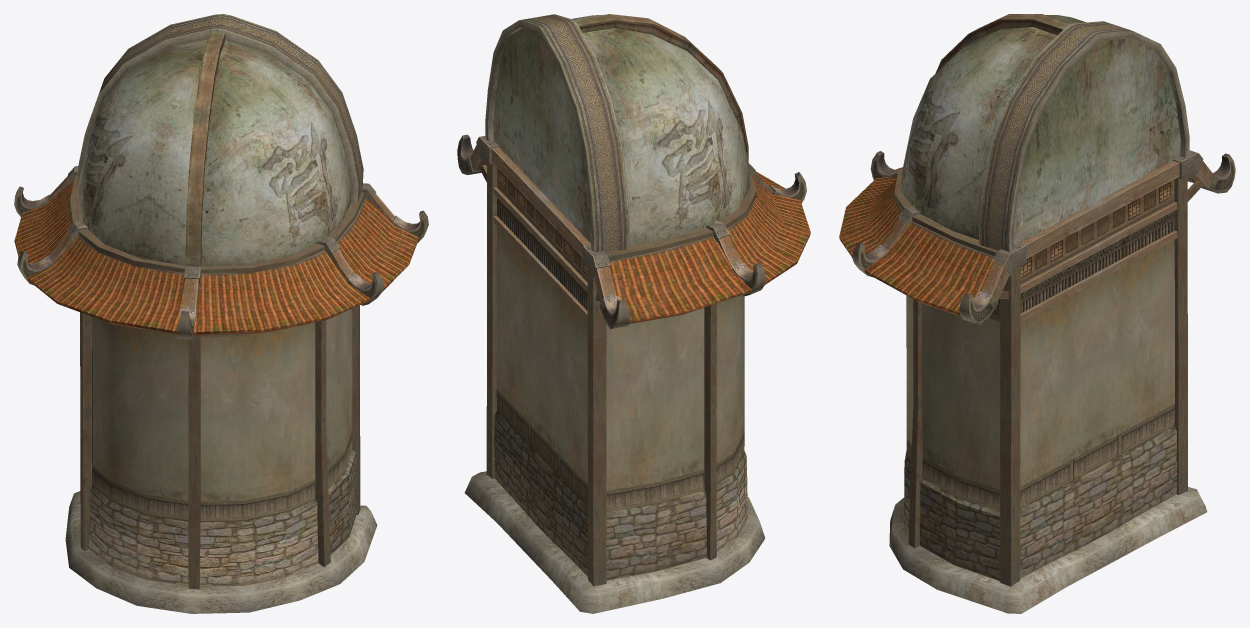
The picture shows the model from 3 angles, left to right: view 1: azimuth 30°, elevation 25°; view 2: azimuth 150°, elevation 25°; view 3: azimuth 270°, elevation 25°; orthographic projection. The views are drawn at different scales.
Visible parts, largest first — view 1: Building_002_09; view 2: Building_002_09; view 3: Building_002_09.
Part boxes in pixels (x1=…): Building_002_09: x1=14, y1=14, x2=428, y2=613; Building_002_09: x1=457, y1=14, x2=810, y2=613; Building_002_09: x1=839, y1=14, x2=1235, y2=613.
Bounding box in the file's own units: 179 × 245 × 168.
